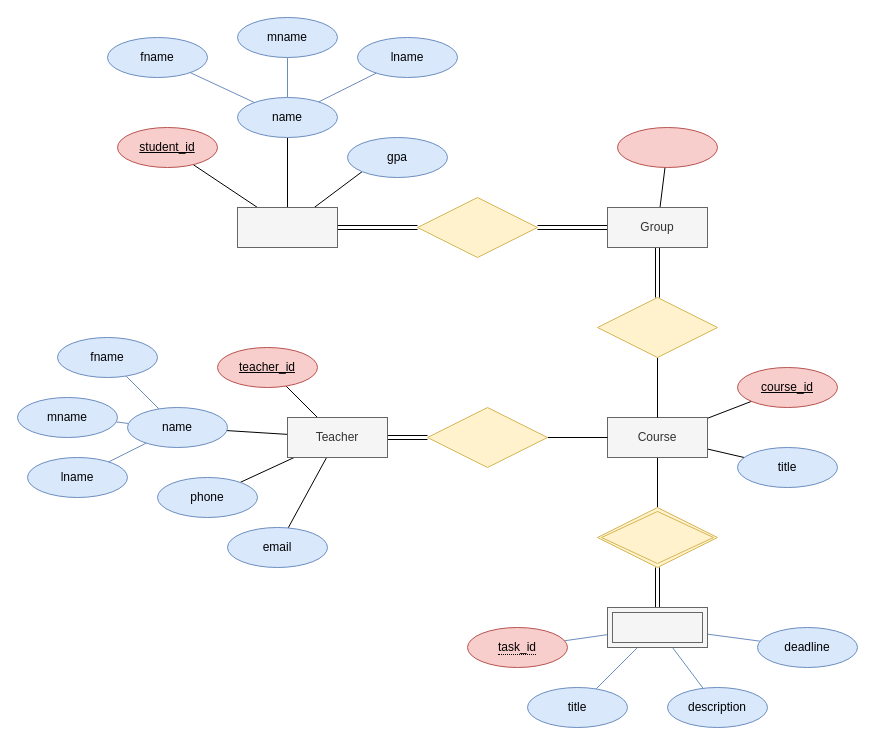
The diagram is 875 pixels wide and 745 high, and some of its shapes have lost their labels. Here are the shapes that lost their labels. From the top down, the centre of each, then its label:
At point 667,147: "group_name".
At point 287,227: "Student".
At point 477,227: "Belongs".
At point 657,327: "Takes".
At point 487,437: "Arranges".
At point 657,537: "Has".
At point 657,627: "Task".
